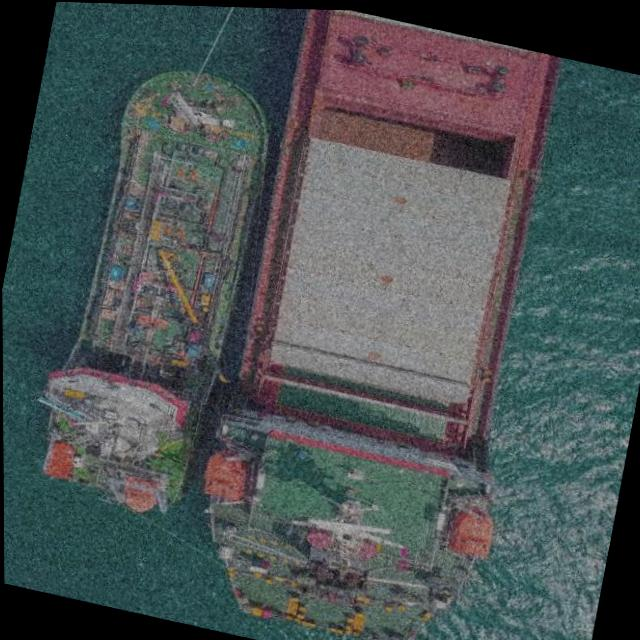ship2: (202, 7, 561, 640), (42, 63, 272, 508)
